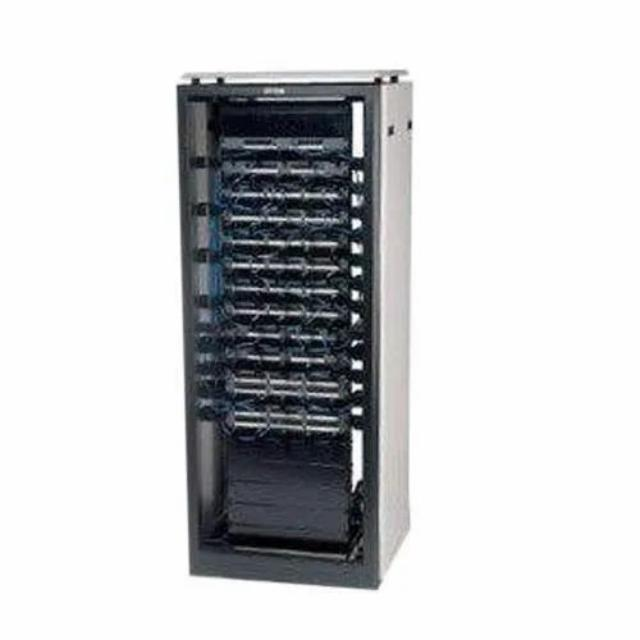Server: (176, 64, 414, 596)
